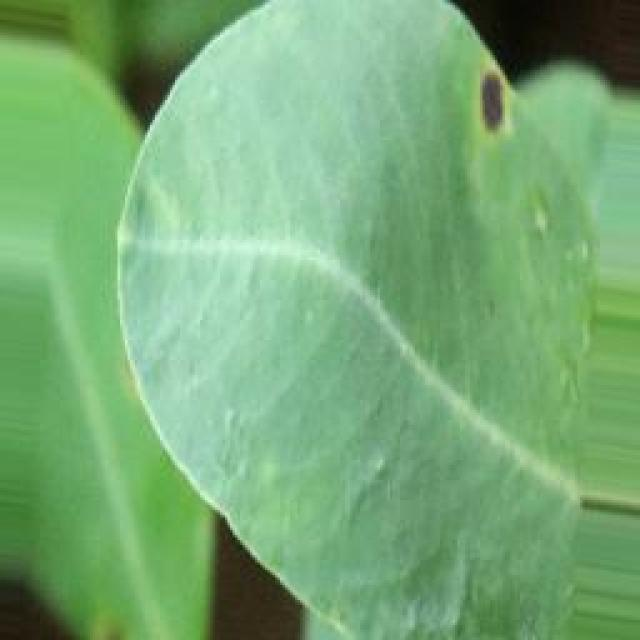Sigatoka: (458, 49, 522, 151)
